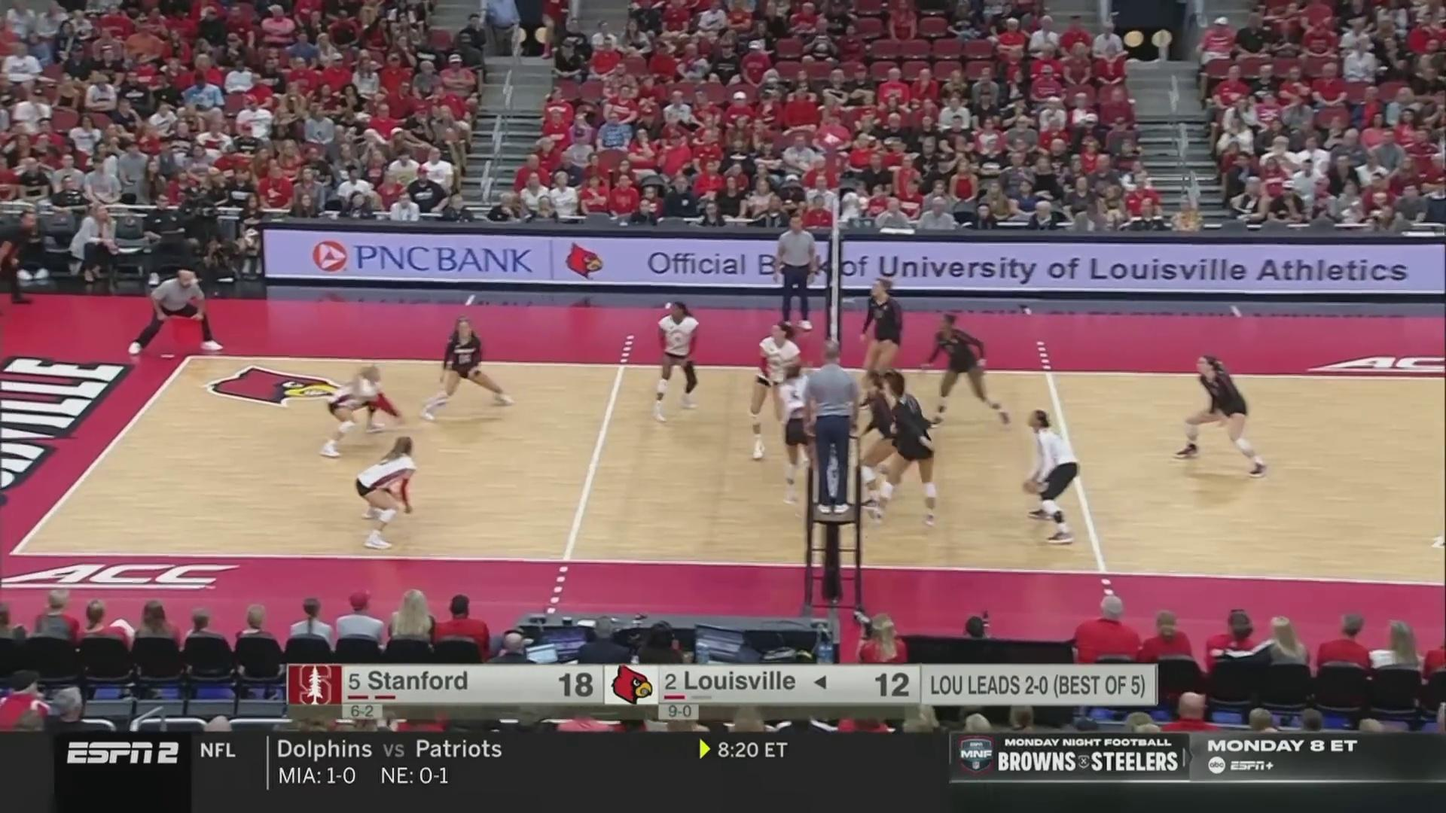player: (1179, 356, 1275, 477), (872, 372, 943, 523), (926, 314, 1010, 423), (426, 318, 518, 416), (749, 323, 810, 465), (856, 366, 911, 516), (309, 368, 399, 459), (1026, 413, 1088, 544), (771, 360, 825, 504), (356, 442, 421, 550), (653, 305, 704, 416), (857, 278, 908, 383)
refree: (800, 335, 861, 518), (130, 267, 225, 356), (768, 213, 819, 335)
